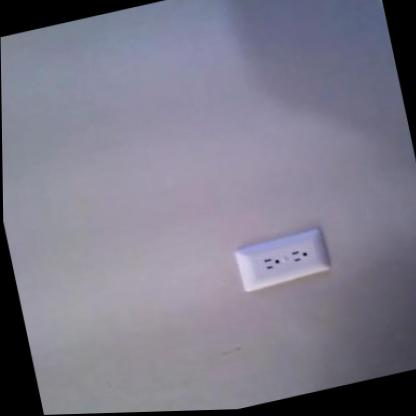OUTLET: (230, 226, 329, 294)
